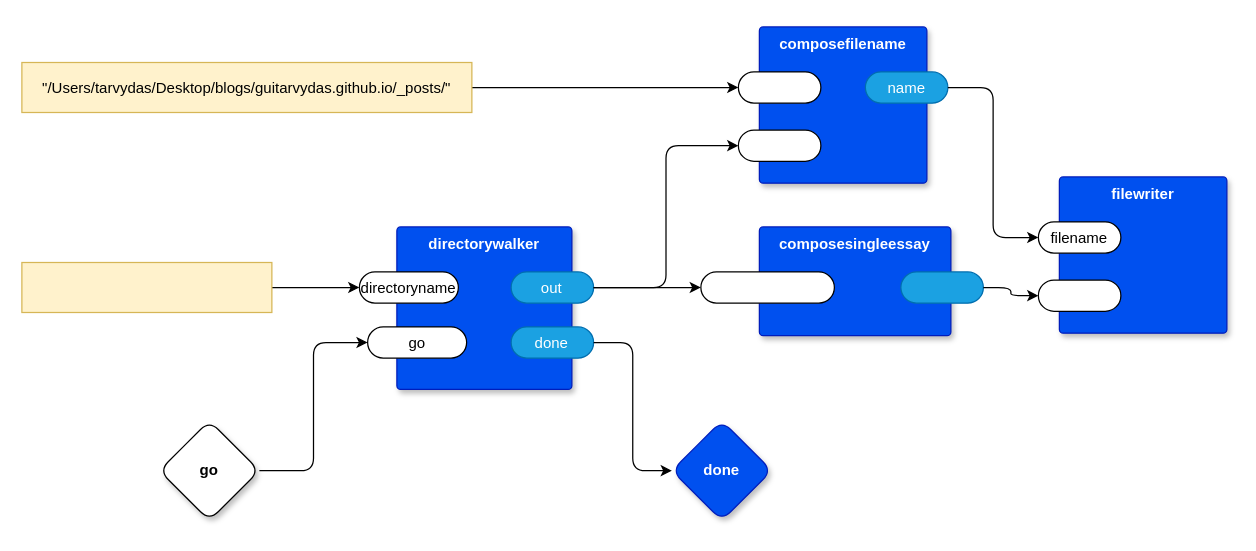
The diagram is 1256 pixels wide and 551 high, and some of its shapes have lost their labels. Each missing label, with the centre of its shape:
"/Users/tarvydas/ps/essays/*.md": [146,286]
content: [1079,295]
dirname: [779,87]
jekyll: [941,287]
markdownfilename: [767,287]
pathname: [779,145]
